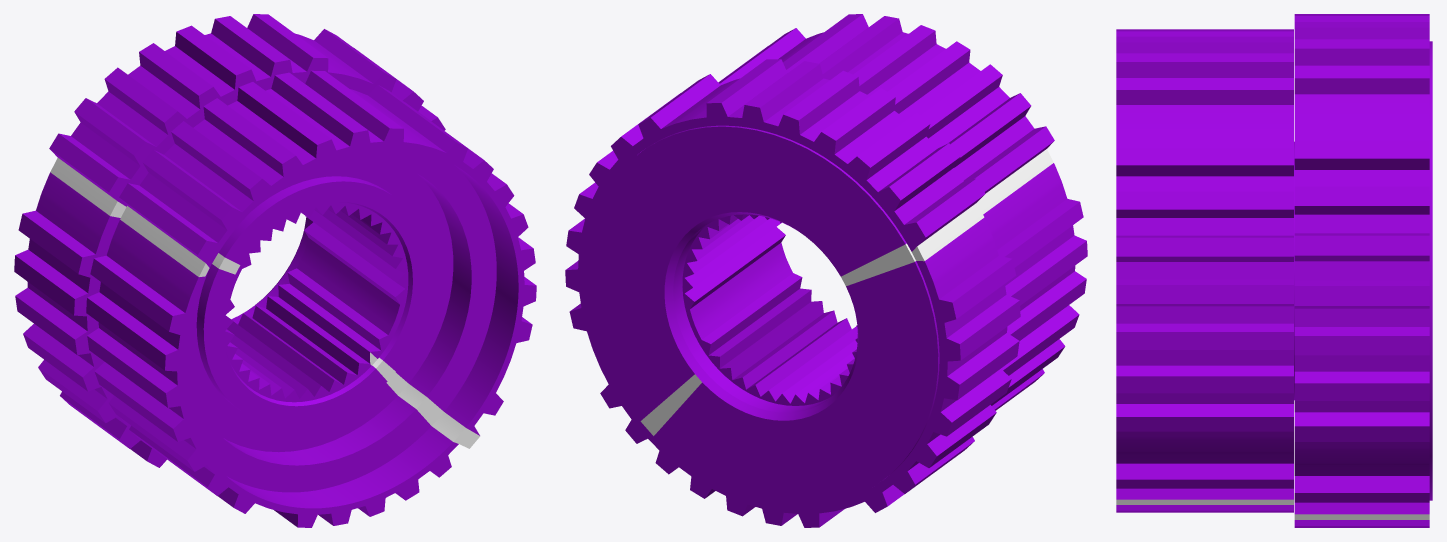
File: 664 and 668- part 1.fbx
3 views of the same model, side by side, from view 1: azimuth 30°, elevation 25°; view 2: azimuth 150°, elevation 25°; view 3: azimuth 270°, elevation 25° (orthographic). The views are drawn at different scales.
Visible parts, largest first — view 1: 664 and 668- part 1; view 2: 664 and 668- part 1; view 3: 664 and 668- part 1.
Part boxes in pixels (box(x1,y1,x2,y2)): 664 and 668- part 1: box(14, 14, 536, 527); 664 and 668- part 1: box(565, 14, 1087, 527); 664 and 668- part 1: box(1116, 14, 1432, 527).
Bounding box in the file's own units: 929 × 929 × 570.
